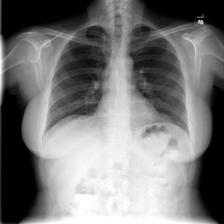normal: (44, 20, 192, 144)
